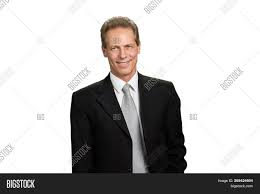white_male: (103, 25, 142, 74)
